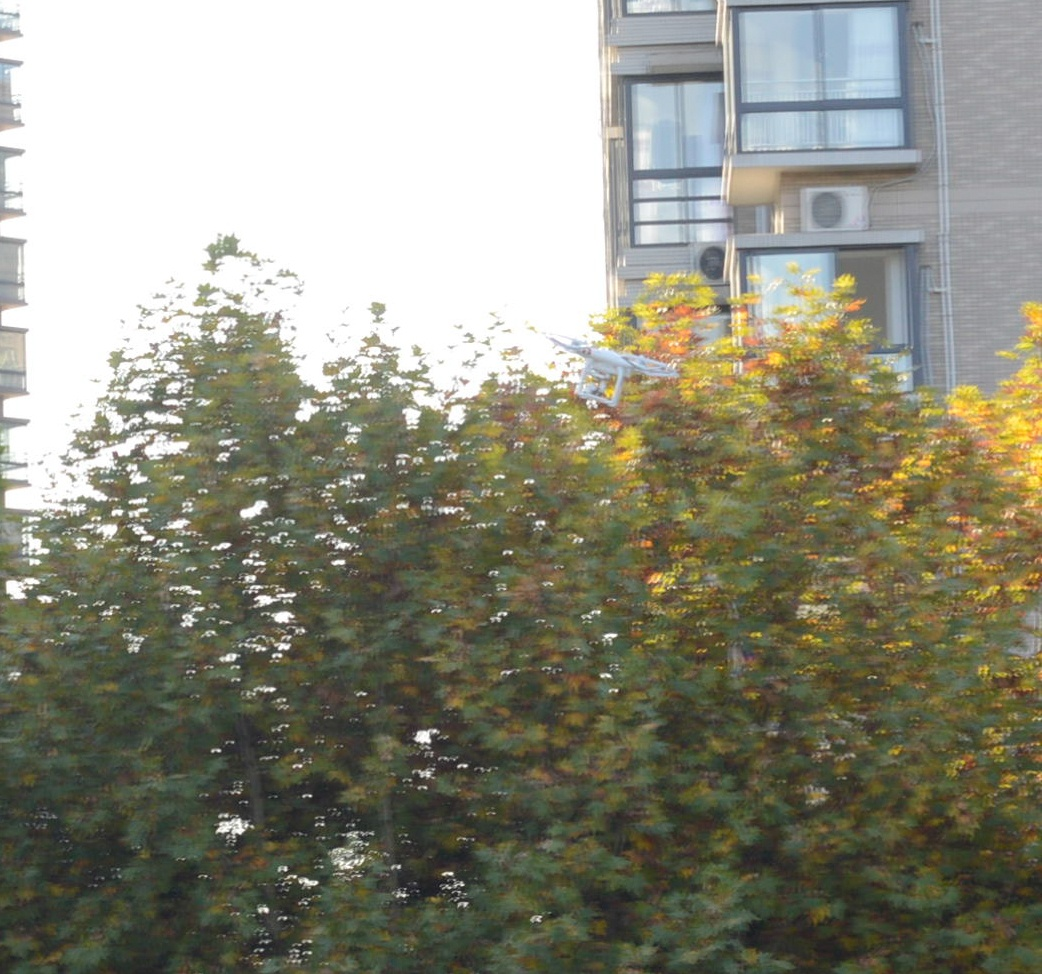DJI: (541, 330, 683, 410)
